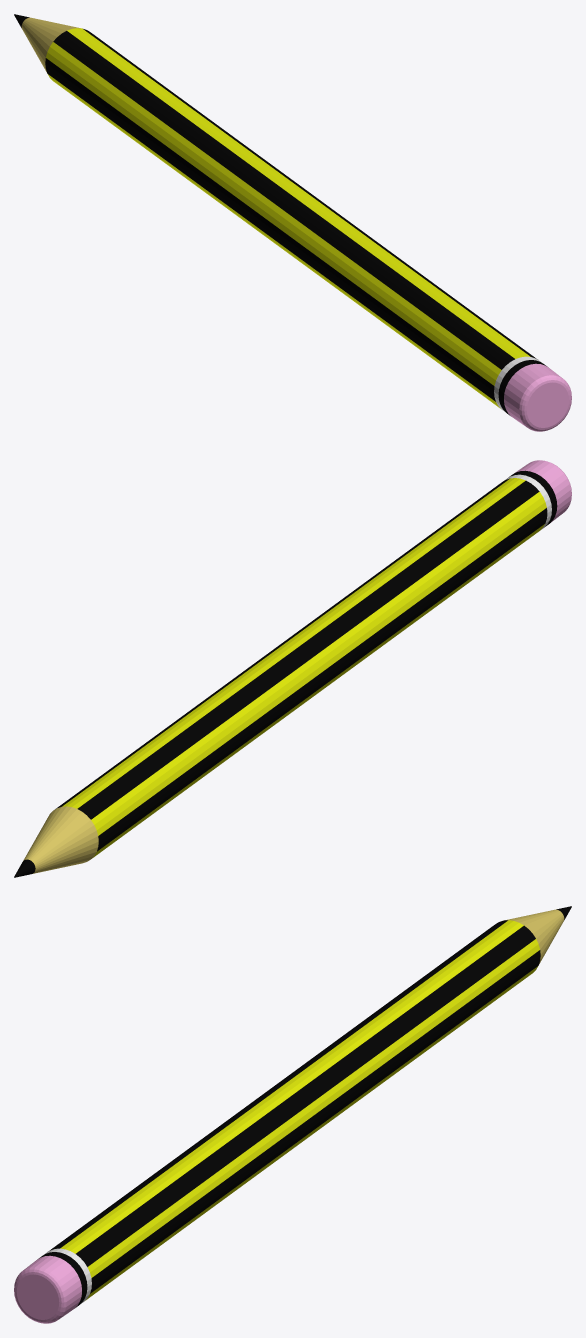
The model's file is Pencil.fbx.
The picture shows the model from 3 angles, top to bottom: view 1: azimuth 30°, elevation 25°; view 2: azimuth 150°, elevation 25°; view 3: azimuth 330°, elevation 25°; orthographic projection.
Visible parts, largest first — view 1: pencil; view 2: pencil; view 3: pencil.
Part boxes in pixels (<box>): pencil: <box>14,14,571,431</box>; pencil: <box>14,460,571,877</box>; pencil: <box>14,906,571,1323</box>.
Bounding box in the file's own units: 1 × 1 × 17.28.
